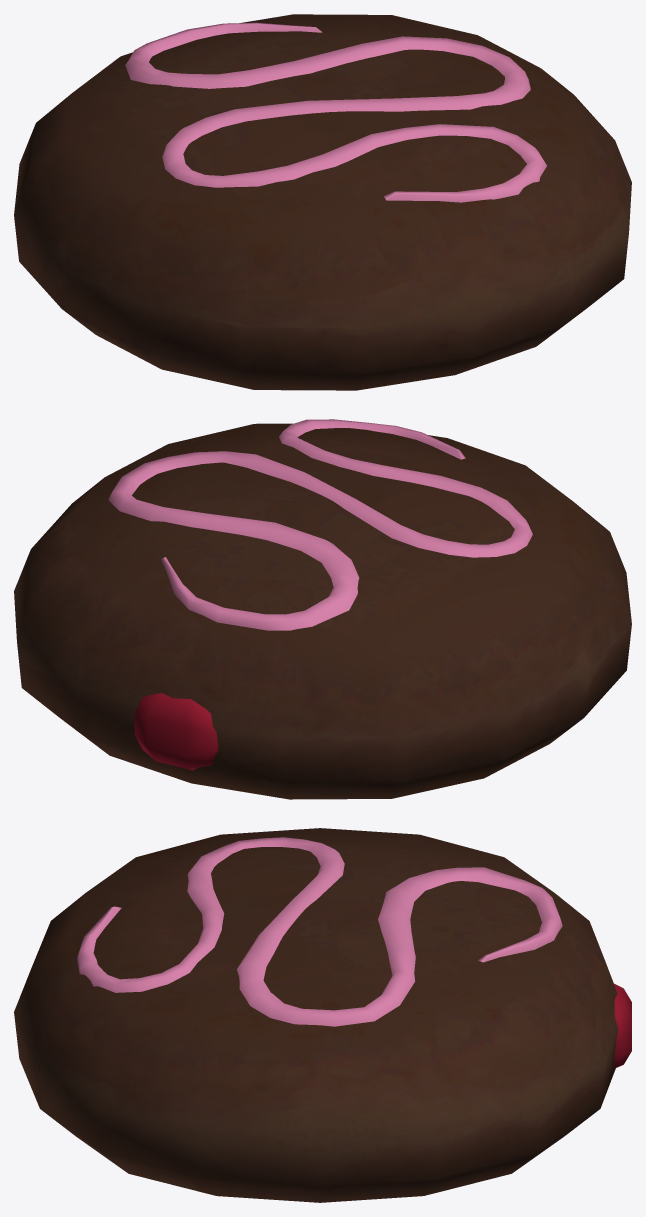
File: donut jam.glb
3 views of the same model, one above another, from view 1: azimuth 30°, elevation 25°; view 2: azimuth 150°, elevation 25°; view 3: azimuth 270°, elevation 25° (orthographic).
Visible parts, largest first — view 1: donut_filled_01; view 2: donut_filled_01; view 3: donut_filled_01.
Part boxes in pixels (box(x1,y1,x2,y2)): donut_filled_01: box(14, 14, 631, 390); donut_filled_01: box(14, 419, 631, 799); donut_filled_01: box(14, 828, 631, 1202).
Size of the model in its own units: 0.1793 by 0.0664 by 0.1808.
Materials: 1 (1 with a texture image).
